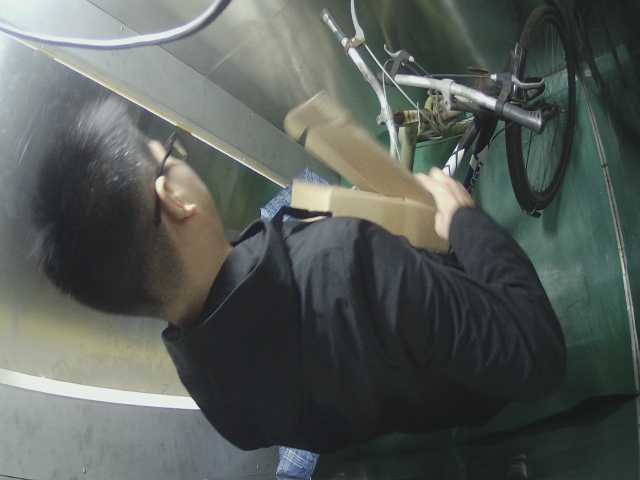bicycle: (295, 4, 597, 230)
person: (48, 86, 576, 449)
